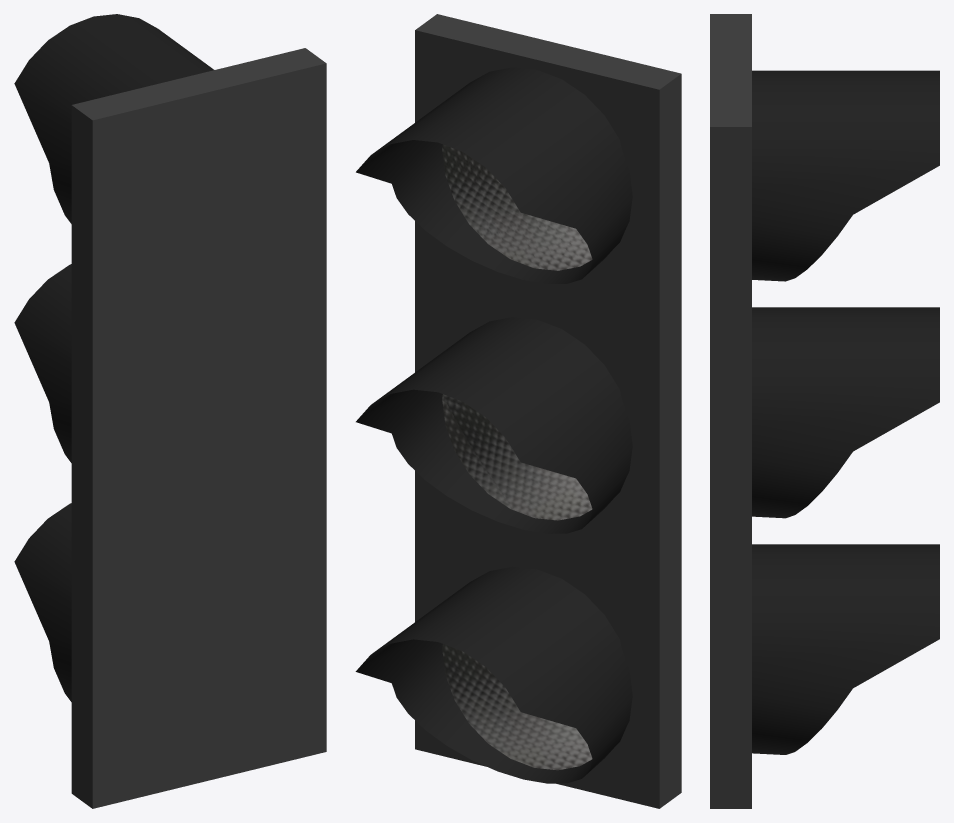
Rendered from traffic light.fbx.
3 views of the same model, side by side, from view 1: azimuth 30°, elevation 25°; view 2: azimuth 150°, elevation 25°; view 3: azimuth 270°, elevation 25° (orthographic). The views are drawn at different scales.
Parts seen in each view (by area): view 1: trafic light; view 2: trafic light; view 3: trafic light.
Boxes of the visible parts, box(x1,y1,x2,y2) form: trafic light: box(14, 14, 326, 808); trafic light: box(355, 14, 681, 808); trafic light: box(710, 14, 939, 808).
Size of the model in its own units: 51.2 by 144 by 44.
1 material, 1 textured.
